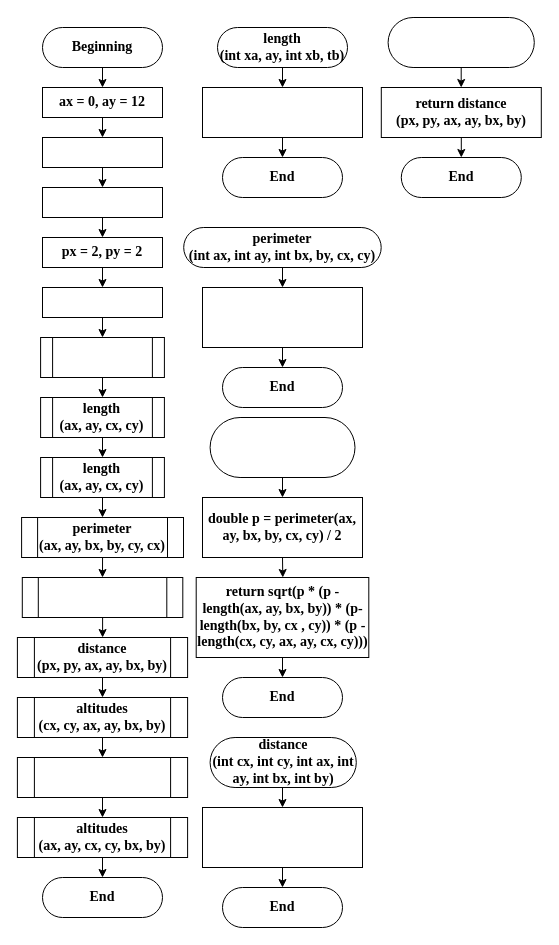
This 559x945 diagram has some shape labels left out. The shapes that lost their labels are listed below. From the top down, each one's centre as x and y in pixels, then its label:
(460,42): altitudes (int px, int py, int ax, int ay, int bx, int by)
(282,112): return sqrt(pow(xa - xb), 2) + pow((ya - yb), 2))
(102,152): bx = 5, by = 0
(102,202): cx = 0, cy = 0
(102,302): ah, bh, ch
(282,317): return length(ax, ay, bx, by) + length(ax, ay, cx, cy) + length(cx, cy, bx, by)
(102,357): length (ax, ay, bx, by)
(282,447): area (int ax, int ay, int bx, int by, int cx, int cy)
(102,597): area (ax, ay, bx, by, cy, cx)
(102,777): altitudes (bx, by, ax, ay, cx, cy)
(282,837): return (2 * (area(ax, ay, , bx, by, cx, cy)) / length(ax, ay, bx, by))
